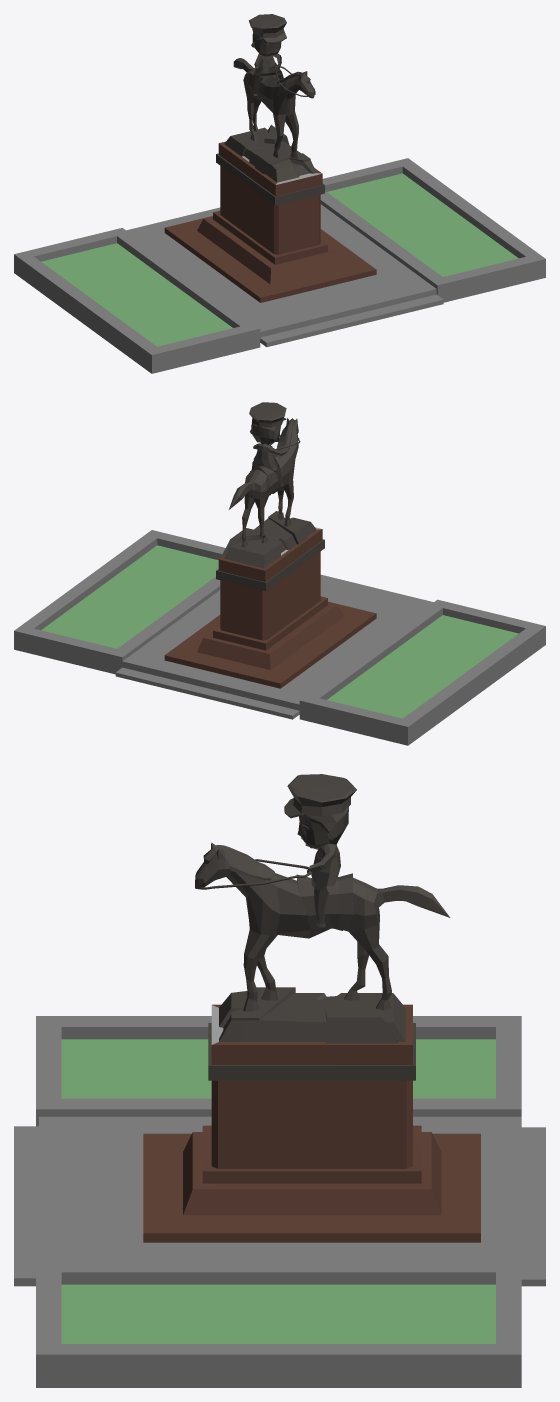
Rendered from monumentJukov.fbx.
3 renders of one model, top to bottom at view 1: azimuth 30°, elevation 25°; view 2: azimuth 150°, elevation 25°; view 3: azimuth 270°, elevation 25°, orthographic. The views are drawn at different scales.
Visible parts, largest first — view 1: pCube20; view 2: pCube20; view 3: pCube20.
Boxes of the visible parts, <box> form: pCube20: <box>14,14,545,373</box>; pCube20: <box>14,402,545,745</box>; pCube20: <box>14,774,545,1387</box>.
Bounding box in the file's own units: 62.09 × 37.18 × 41.22.
